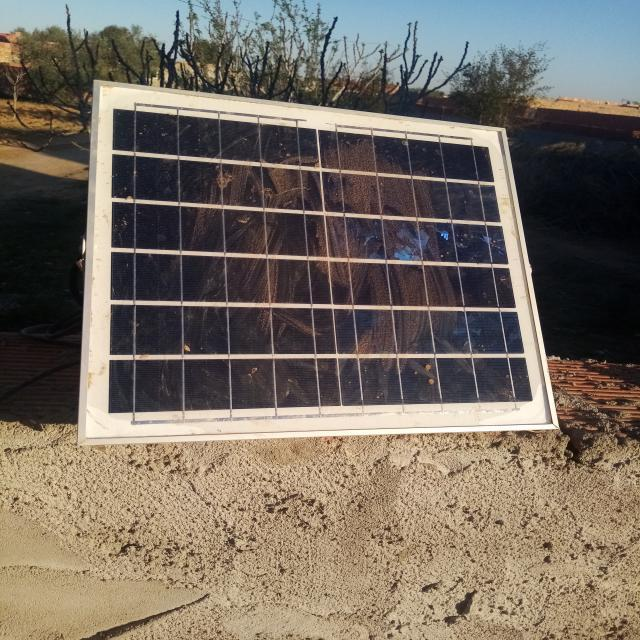faulty: (82, 82, 556, 442)
